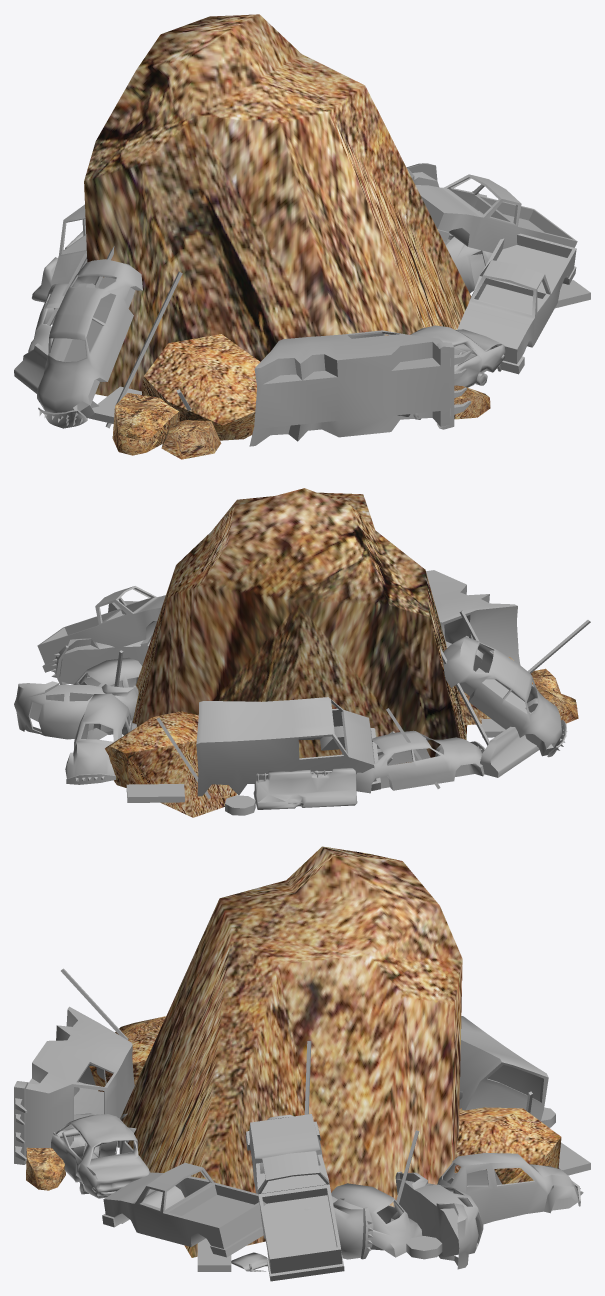
Rendered from Mountain_01.fbx.
3 views of the same model, one above another, from view 1: azimuth 30°, elevation 25°; view 2: azimuth 150°, elevation 25°; view 3: azimuth 270°, elevation 25° (orthographic). The views are drawn at different scales.
Visible parts, largest first — view 1: polymsh77; view 2: polymsh77; view 3: polymsh77.
Part boxes in pixels (bbox=[...]): polymsh77: bbox=[14, 14, 590, 459]; polymsh77: bbox=[14, 488, 590, 817]; polymsh77: bbox=[14, 846, 590, 1281].
Bounding box in the file's own units: 15.57 × 8.71 × 14.38.
